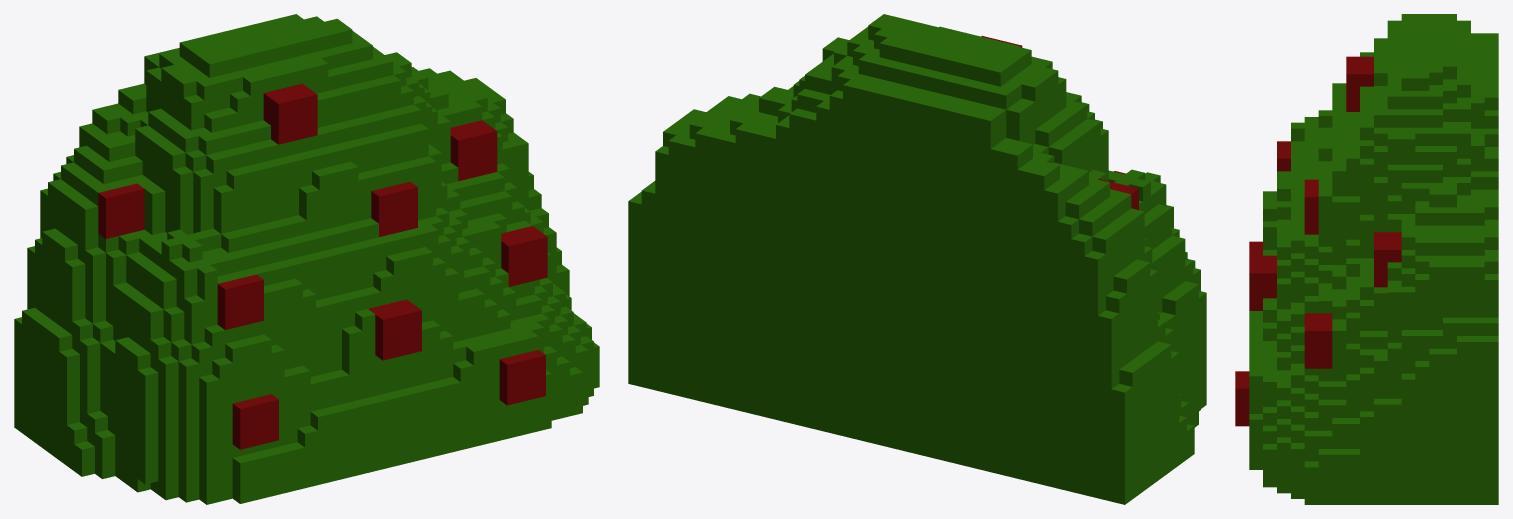
File: bush.obj
3 renders of one model, left to right at view 1: azimuth 30°, elevation 25°; view 2: azimuth 150°, elevation 25°; view 3: azimuth 270°, elevation 25°, orthographic. The views are drawn at different scales.
Bounding box in the file's own units: 3.7 × 2.7 × 1.9.
Materials: 1 (1 with a texture image).
